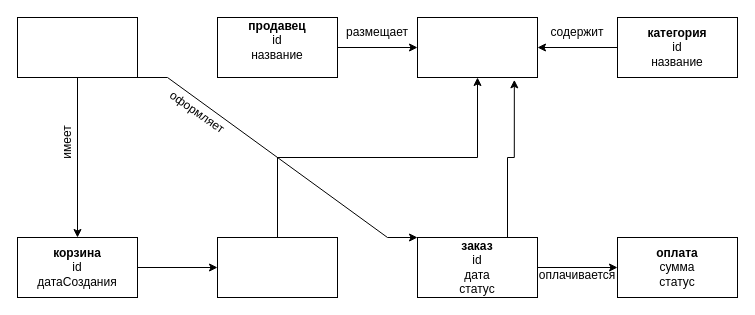
This 755x315 diagram has some shape labels left out. The centre of each missing label's shape, as x and y in pixels:
"позицияКорзины количество" belongs at (277,267).
"пользователь id ФИО роль" belongs at (77,47).
"товар id название цена" belongs at (477,47).
